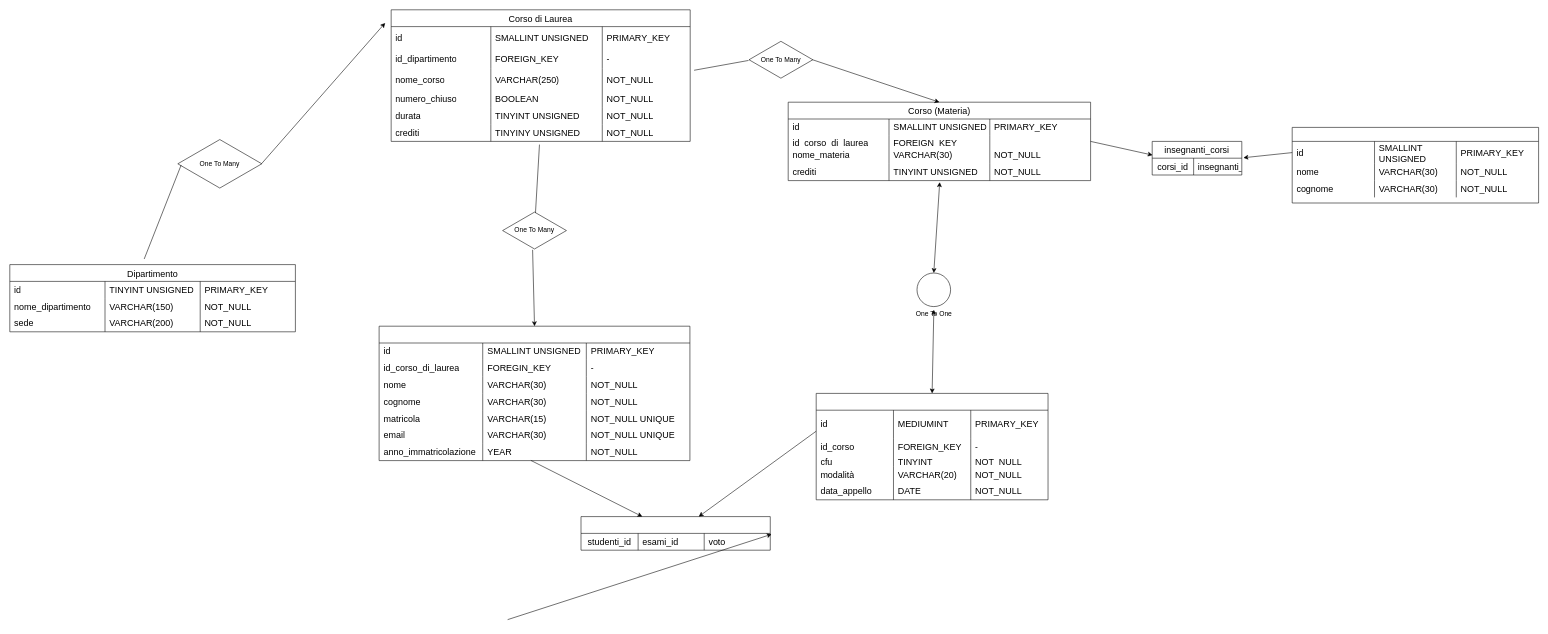
Some shapes in this 1548 by 634 pixel diagram are drawn without their labels. Each missing label, with the box of its shape:
Esame: (816, 393, 1048, 500)
esami_studenti: (580, 516, 770, 550)
Insegnanti: (1292, 127, 1539, 203)
Studente: (379, 326, 690, 461)
